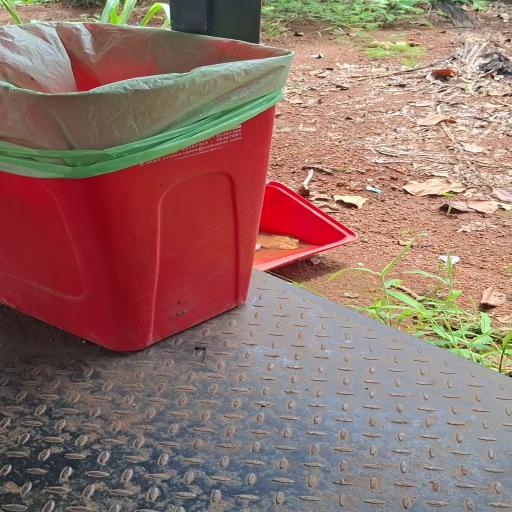Nilkamal-dustbin-detection: (0, 23, 292, 350)
